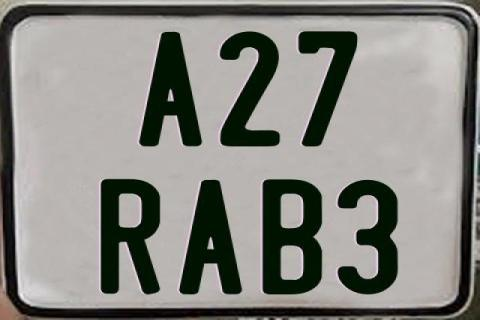0: (337, 180, 402, 298), (219, 31, 282, 150), (299, 31, 364, 146)
A: (137, 31, 202, 148), (180, 179, 243, 299)
B: (262, 178, 326, 298)
R: (101, 180, 160, 296)
